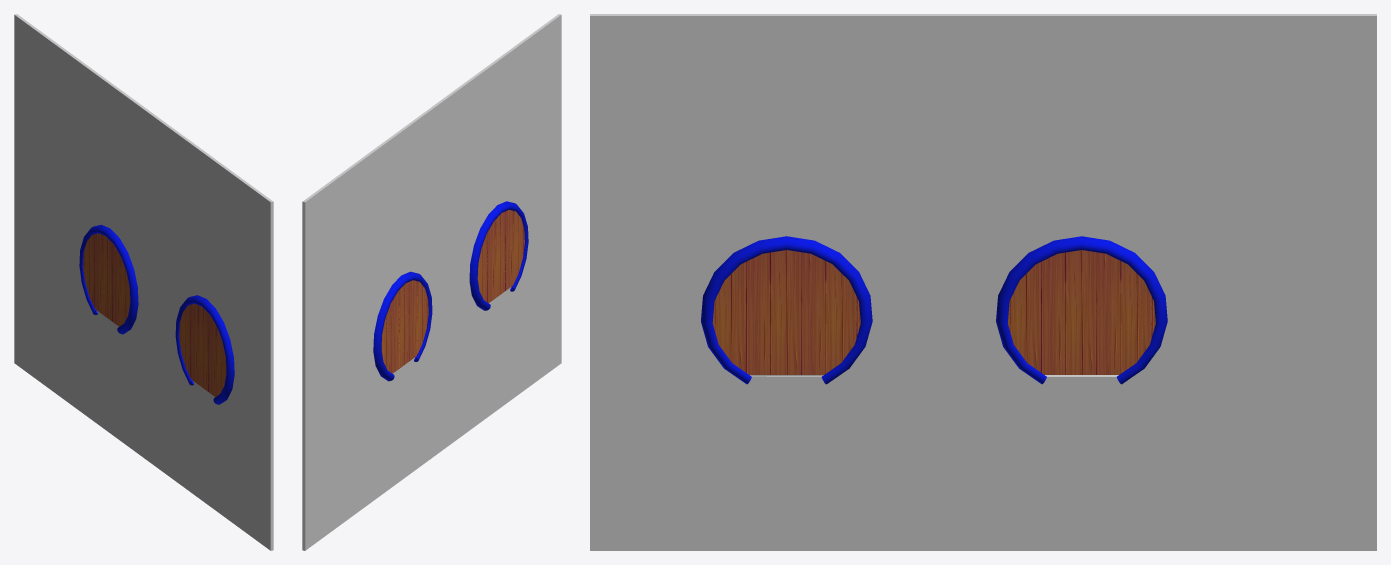
File: separation_salle_2_3.fbx
3 renders of one model, left to right at view 1: azimuth 30°, elevation 25°; view 2: azimuth 150°, elevation 25°; view 3: azimuth 270°, elevation 25°, orthographic. The views are drawn at different scales.
Visible parts, largest first — view 1: Cube, Cube.001, Cylinder, Cylinder.001, Circle.001, Circle; view 2: Cube, Cube.001, Cylinder, Cylinder.001, Circle.001, Circle; view 3: Cube, Cube.001, Cylinder, Cylinder.001, Circle.001, Circle.
Boxes of the visible parts, x1,y1,x2,y2 form: Cube: (14,14,273,434); Cube.001: (14,247,273,550); Cylinder: (83,233,130,326); Cylinder.001: (179,303,226,396); Circle.001: (175,295,234,404); Circle: (79,224,138,334); Cube: (302,14,561,434); Cube.001: (302,247,561,550); Cylinder: (381,280,428,373); Cylinder.001: (477,210,524,303); Circle.001: (469,201,528,310); Circle: (373,271,432,381); Cube: (590,14,1376,372); Cube.001: (590,239,1376,550); Cylinder: (1007,250,1155,374); Cylinder.001: (712,250,860,374); Circle.001: (701,236,872,384); Circle: (996,236,1167,384).
Bounding box in the file's own units: 9.28 × 320 × 240.
